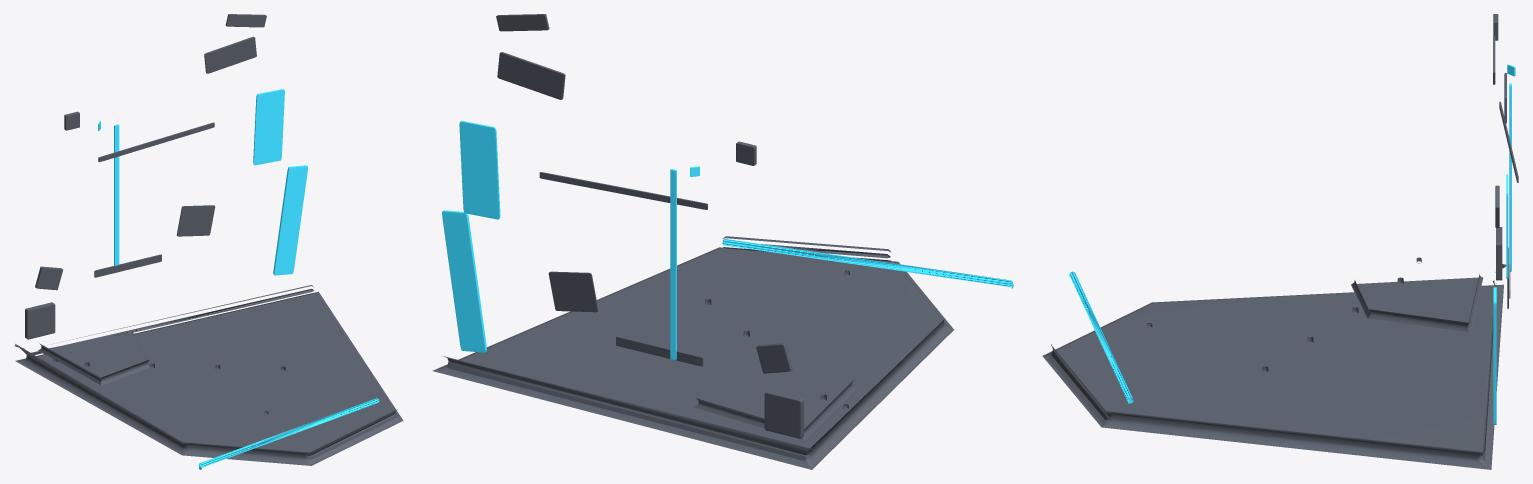
Rendered from fin_delta.glb.
The picture shows the model from 3 angles, left to right: view 1: azimuth 30°, elevation 25°; view 2: azimuth 150°, elevation 25°; view 3: azimuth 270°, elevation 25°; orthographic projection. The views are drawn at different scales.
Parts seen in each view (by area): view 1: Delta_Main, fin_delta_Material_Mechanical_Merged, DET_leading_edge_wear, DET_edge_chamfer_band, DET_control_surface, Delta_Edge, DET_micro_scratch_plate, DET_mount_flange, DET_faction_stripe_port, DET_panel_line_emphasis, DET_rivet_row, DET_dock_scuff (+1 smaller); view 2: Delta_Main, fin_delta_Material_Mechanical_Merged, DET_leading_edge_wear, DET_edge_chamfer_band, Delta_Edge, DET_control_surface, DET_micro_scratch_plate, DET_mount_flange, DET_faction_stripe_port, DET_panel_line_emphasis, DET_dock_scuff, DET_vortex_slat (+1 smaller); view 3: Delta_Main, fin_delta_Material_Mechanical_Merged, Delta_Edge, DET_leading_edge_wear, DET_faction_stripe_port.
Part boxes in pixels (x1,y1,x2,y2): Delta_Main: (14, 285, 403, 465); fin_delta_Material_Mechanical_Merged: (37, 332, 285, 415); DET_leading_edge_wear: (273, 165, 307, 275); DET_edge_chamfer_band: (253, 89, 284, 165); DET_control_surface: (204, 36, 256, 73); Delta_Edge: (198, 398, 379, 469); DET_micro_scratch_plate: (176, 205, 215, 236); DET_mount_flange: (25, 302, 55, 339); DET_faction_stripe_port: (114, 124, 119, 265); DET_panel_line_emphasis: (98, 122, 214, 162); DET_rivet_row: (94, 254, 161, 277); DET_dock_scuff: (35, 266, 62, 290); Delta_Main: (432, 236, 953, 469); fin_delta_Material_Mechanical_Merged: (693, 270, 856, 440); DET_leading_edge_wear: (442, 210, 486, 352); DET_edge_chamfer_band: (459, 121, 500, 219); Delta_Edge: (722, 239, 1013, 288); DET_control_surface: (497, 52, 565, 99); DET_micro_scratch_plate: (548, 271, 598, 312); DET_mount_flange: (764, 390, 803, 438); DET_faction_stripe_port: (670, 169, 676, 360); DET_panel_line_emphasis: (539, 172, 707, 209); DET_dock_scuff: (756, 343, 792, 373); DET_vortex_slat: (496, 14, 549, 31); Delta_Main: (1042, 264, 1506, 469); fin_delta_Material_Mechanical_Merged: (1147, 257, 1483, 371); Delta_Edge: (1068, 271, 1133, 403); DET_leading_edge_wear: (1493, 287, 1496, 424); DET_faction_stripe_port: (1509, 83, 1511, 271).
Bounding box in the file's own units: 5.36 × 5.09 × 5.81.
